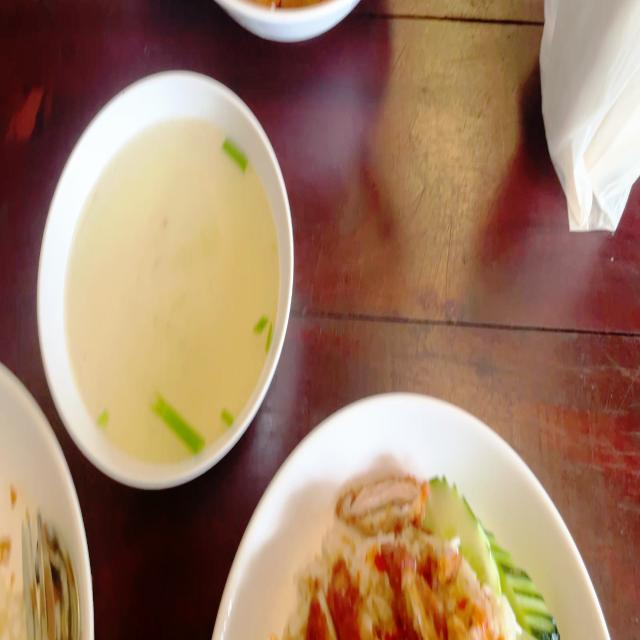chicken_rice: (285, 474, 562, 640)
cucumber: (424, 474, 499, 598), (485, 528, 560, 640)
fried_chicken: (313, 480, 481, 640)
